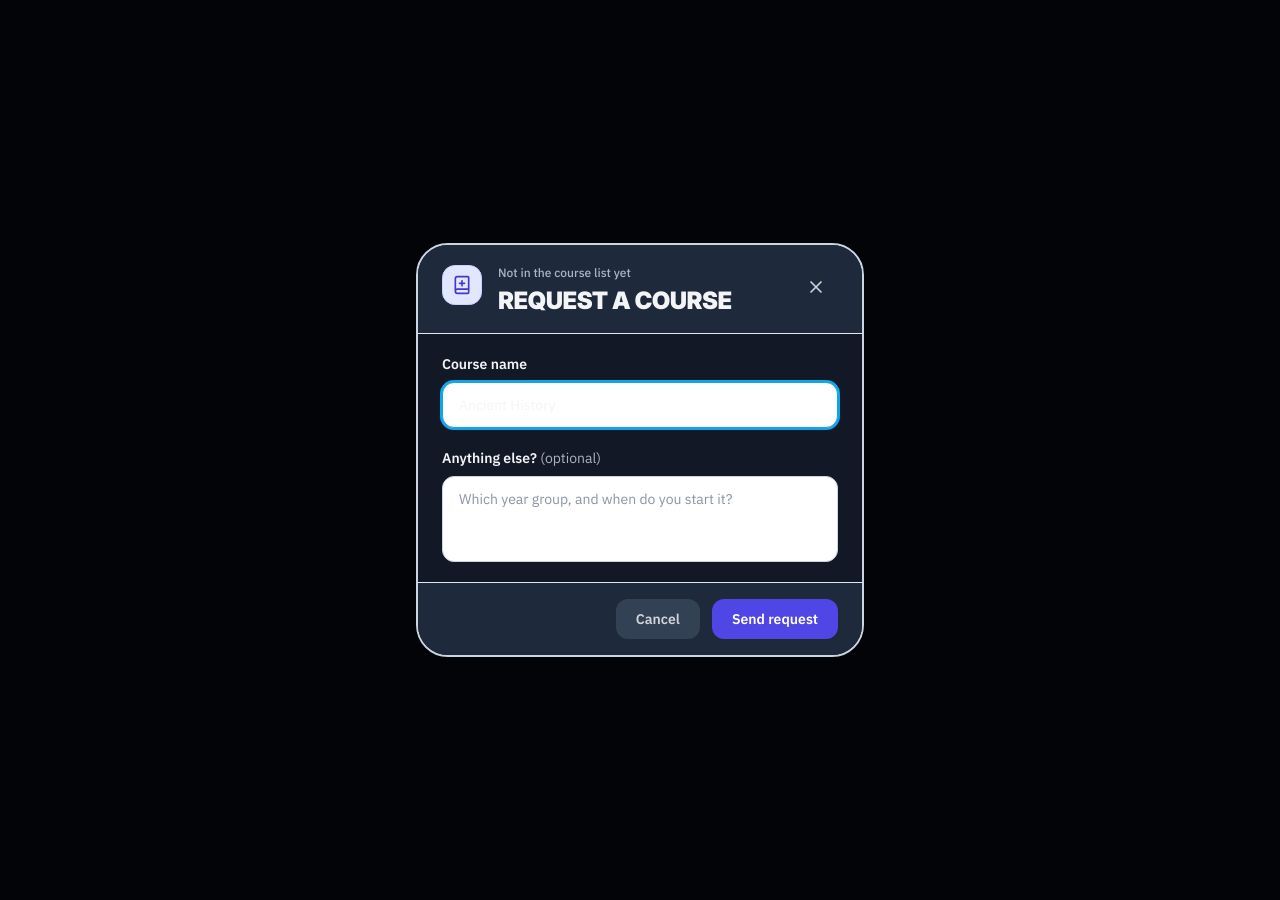
CourseRequestModal › keeps the form open with the reason when the request fails
The width and height of the screenshot is (1280, 900).
Click the button "Send request": click(775, 619) [712, 599, 838, 639]
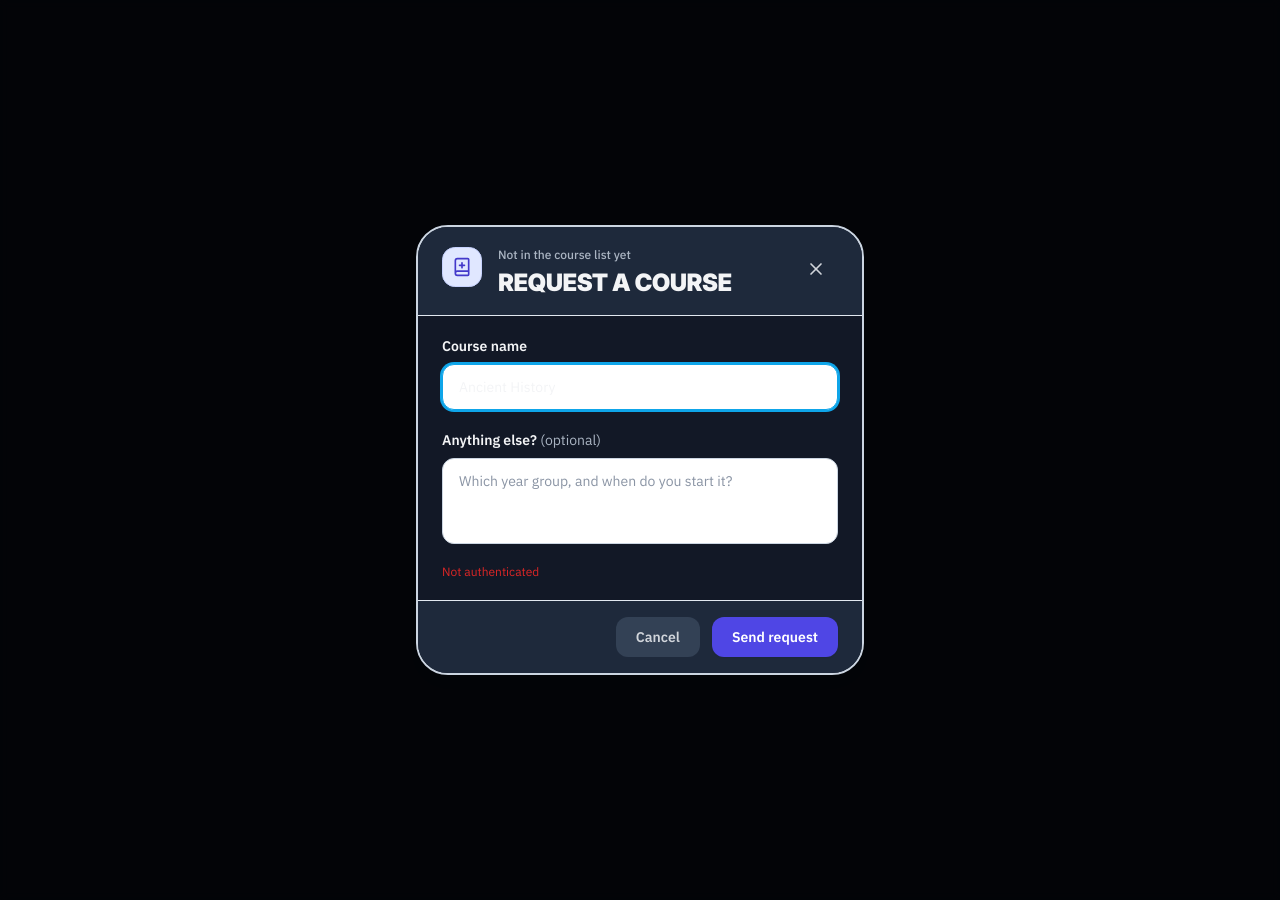
Expected: the field labelled "Course name" holds "Ancient History", [442, 364, 838, 410]
Expected: the text "Not authenticated" is shown, [442, 564, 539, 579]
